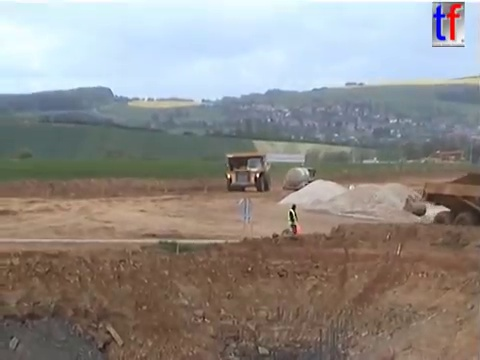truck: (419, 178, 480, 240), (222, 150, 273, 193), (282, 165, 317, 194)
worker: (284, 202, 302, 239)
